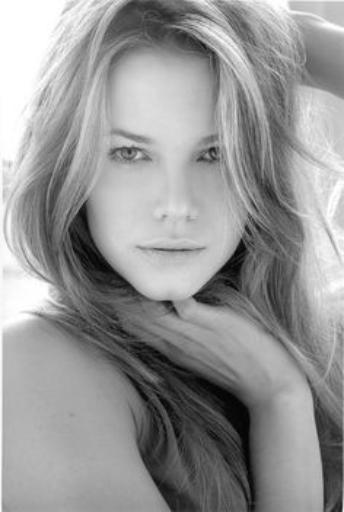left_eye: (192, 146, 223, 171)
left_lip_corner: (196, 240, 212, 261)
right_eye: (110, 147, 154, 172)
right_lip_corner: (128, 238, 152, 254)
